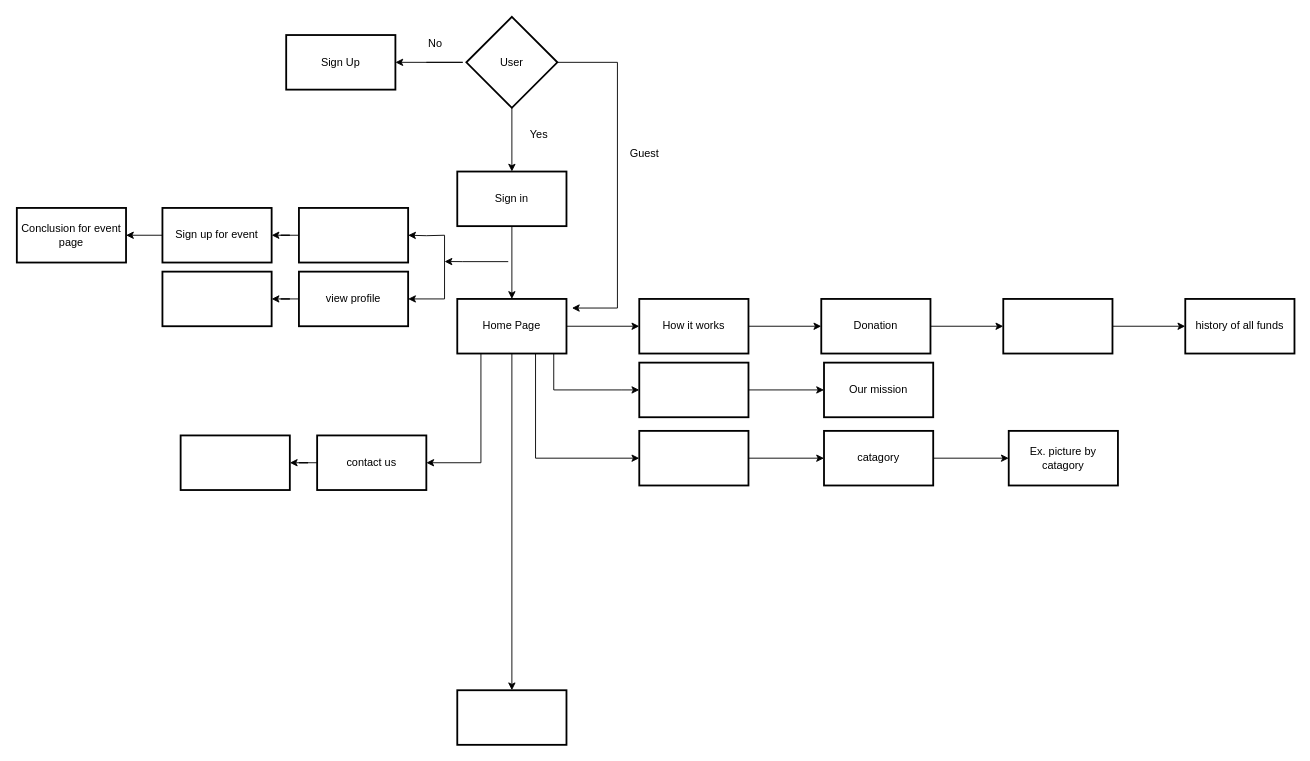
Some shapes in this 1310 by 761 pixel diagram are drawn without their labels. Here are the shapes that lost their labels. From the top down, the box of each, then its label:
(298, 207, 409, 263): Event
(161, 270, 272, 327): edit
(1002, 298, 1113, 354): Summary
(638, 361, 749, 418): About Us
(179, 434, 290, 490): submit
(638, 430, 749, 486): Gallery
(456, 689, 567, 745): log out
